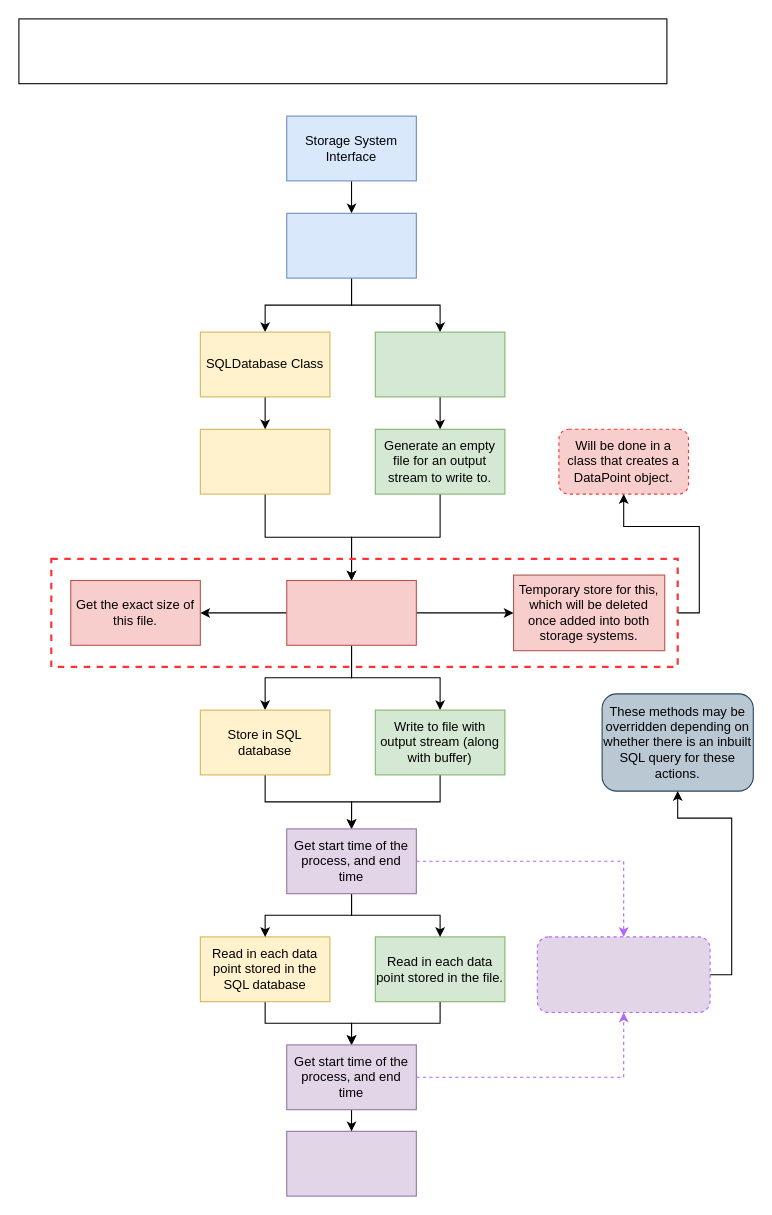
Image size: 772x1215. Some labels were removed from this diagram. Each missing label, with the box of its shape:
Delete databases.: (286, 1130, 416, 1196)
FileOutputDatabase Class: (374, 331, 505, 397)
Generate an empty SQL database for an hours worth of data.: (199, 428, 330, 494)
Generate random data for one data point: (286, 579, 416, 645)
Storage System Abstract class: (286, 212, 416, 278)
Storage Systems Analysis: (18, 18, 667, 84)
Will be done in the abstract class that the storage systems will extend from.: (536, 936, 710, 1013)
